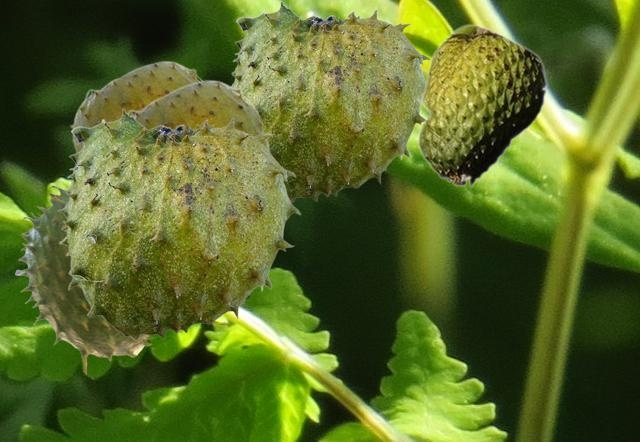guyabano: (57, 107, 300, 339), (231, 0, 429, 201), (15, 179, 154, 373), (415, 23, 547, 188), (69, 60, 203, 152), (127, 79, 270, 151)
